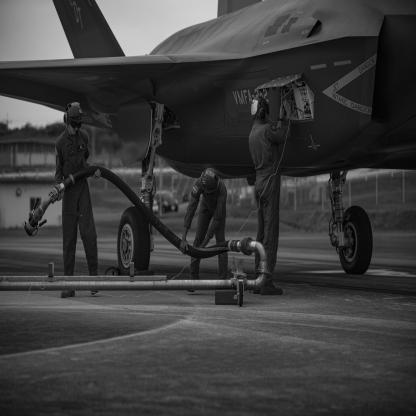F35: (1, 2, 416, 278)
